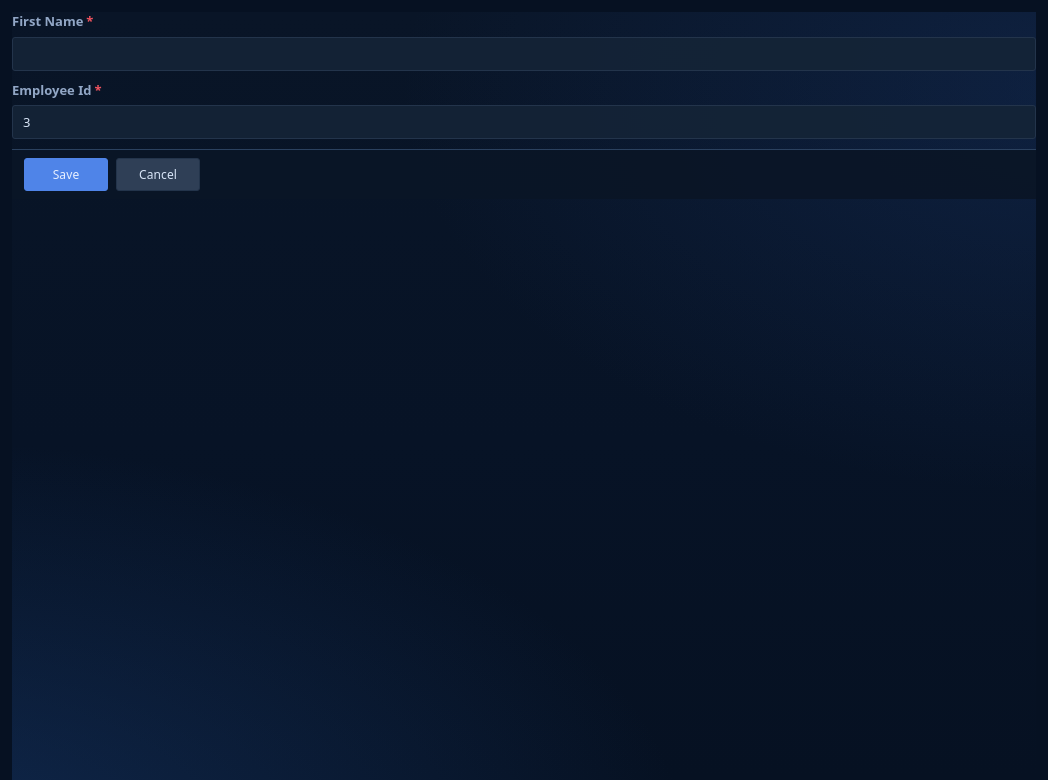
Test case: DynamicForm component › blocks saving when Employee Id already exists
The image size is (1048, 780).
Replace the text in the number field labelled "Employee Id*" with "2" at [524, 122], box x1=12 y1=105 x2=1036 y2=139
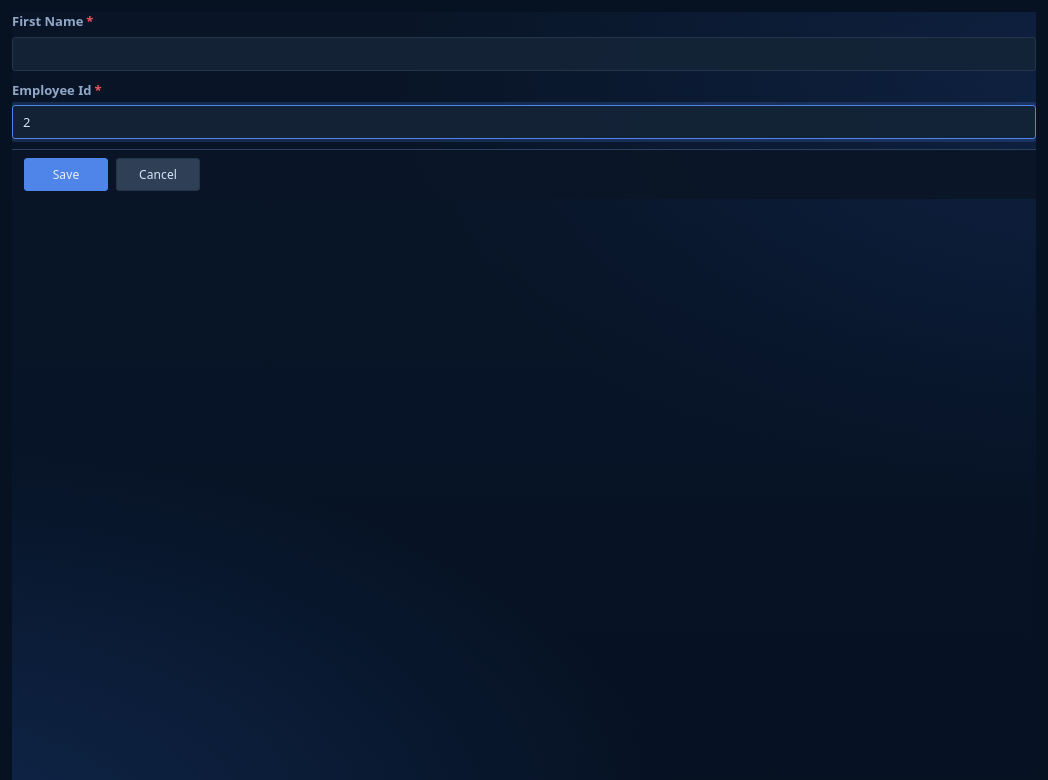
Type "John" into the field labelled "First Name*" at [524, 54], box x1=12 y1=36 x2=1036 y2=70
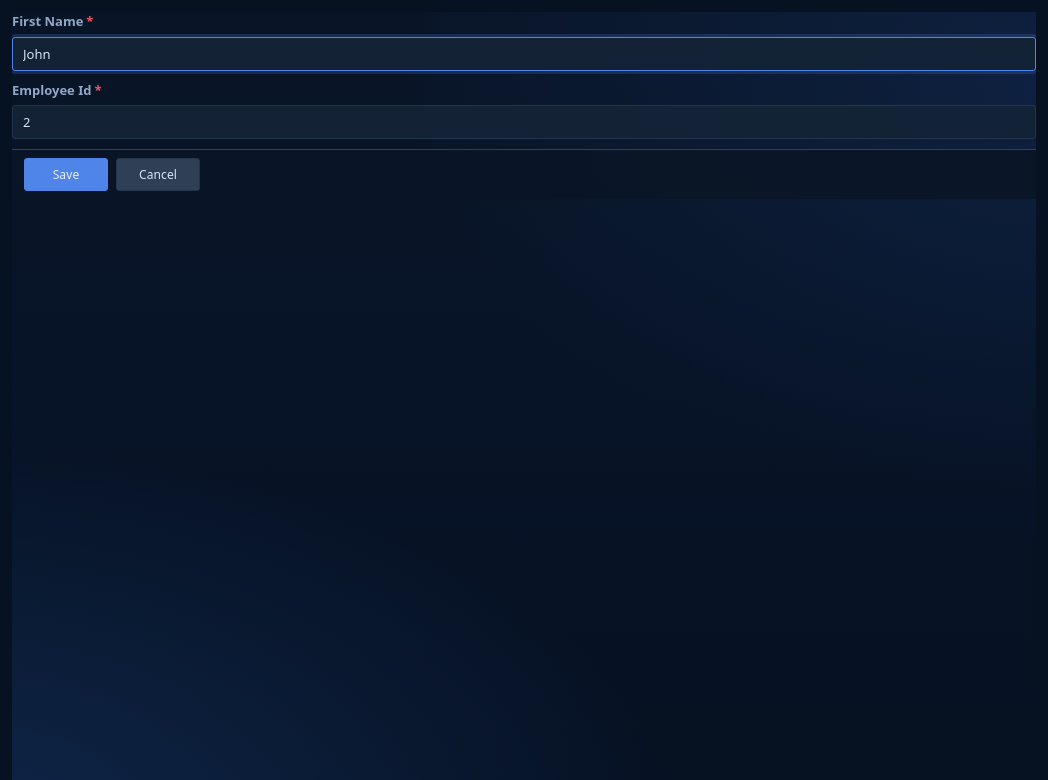
Click the button "Save" at [66, 174], box x1=24 y1=158 x2=108 y2=191
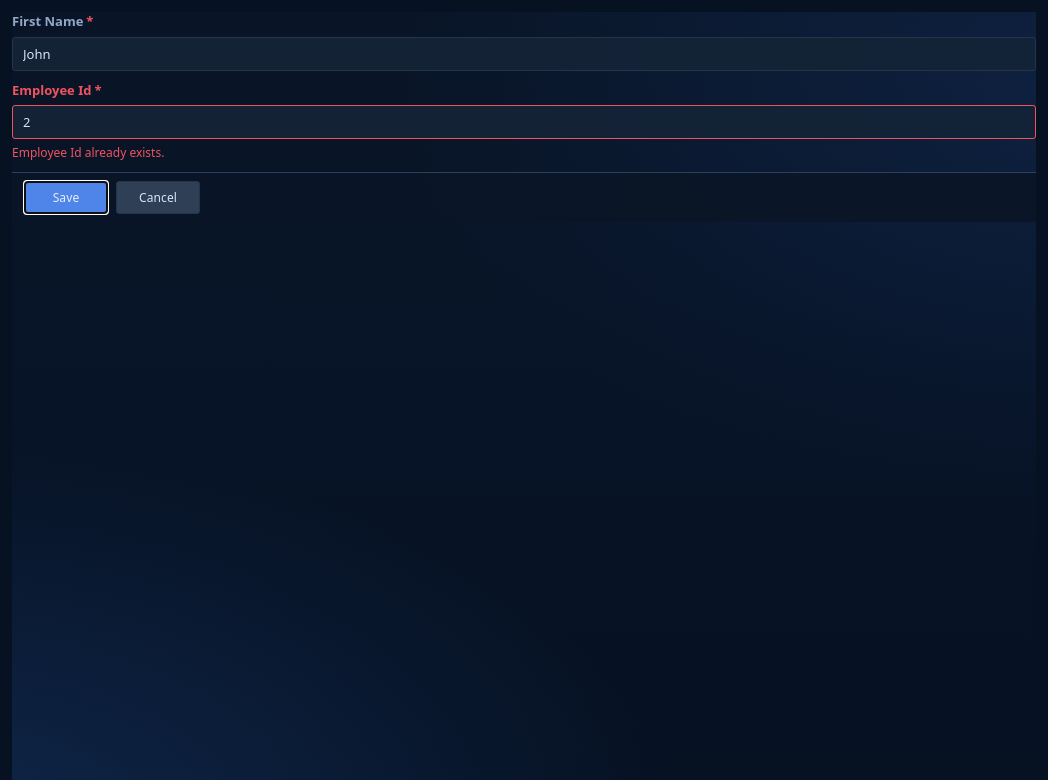
Expected: the text "Employee Id already exists." is shown, x1=12 y1=144 x2=164 y2=161
